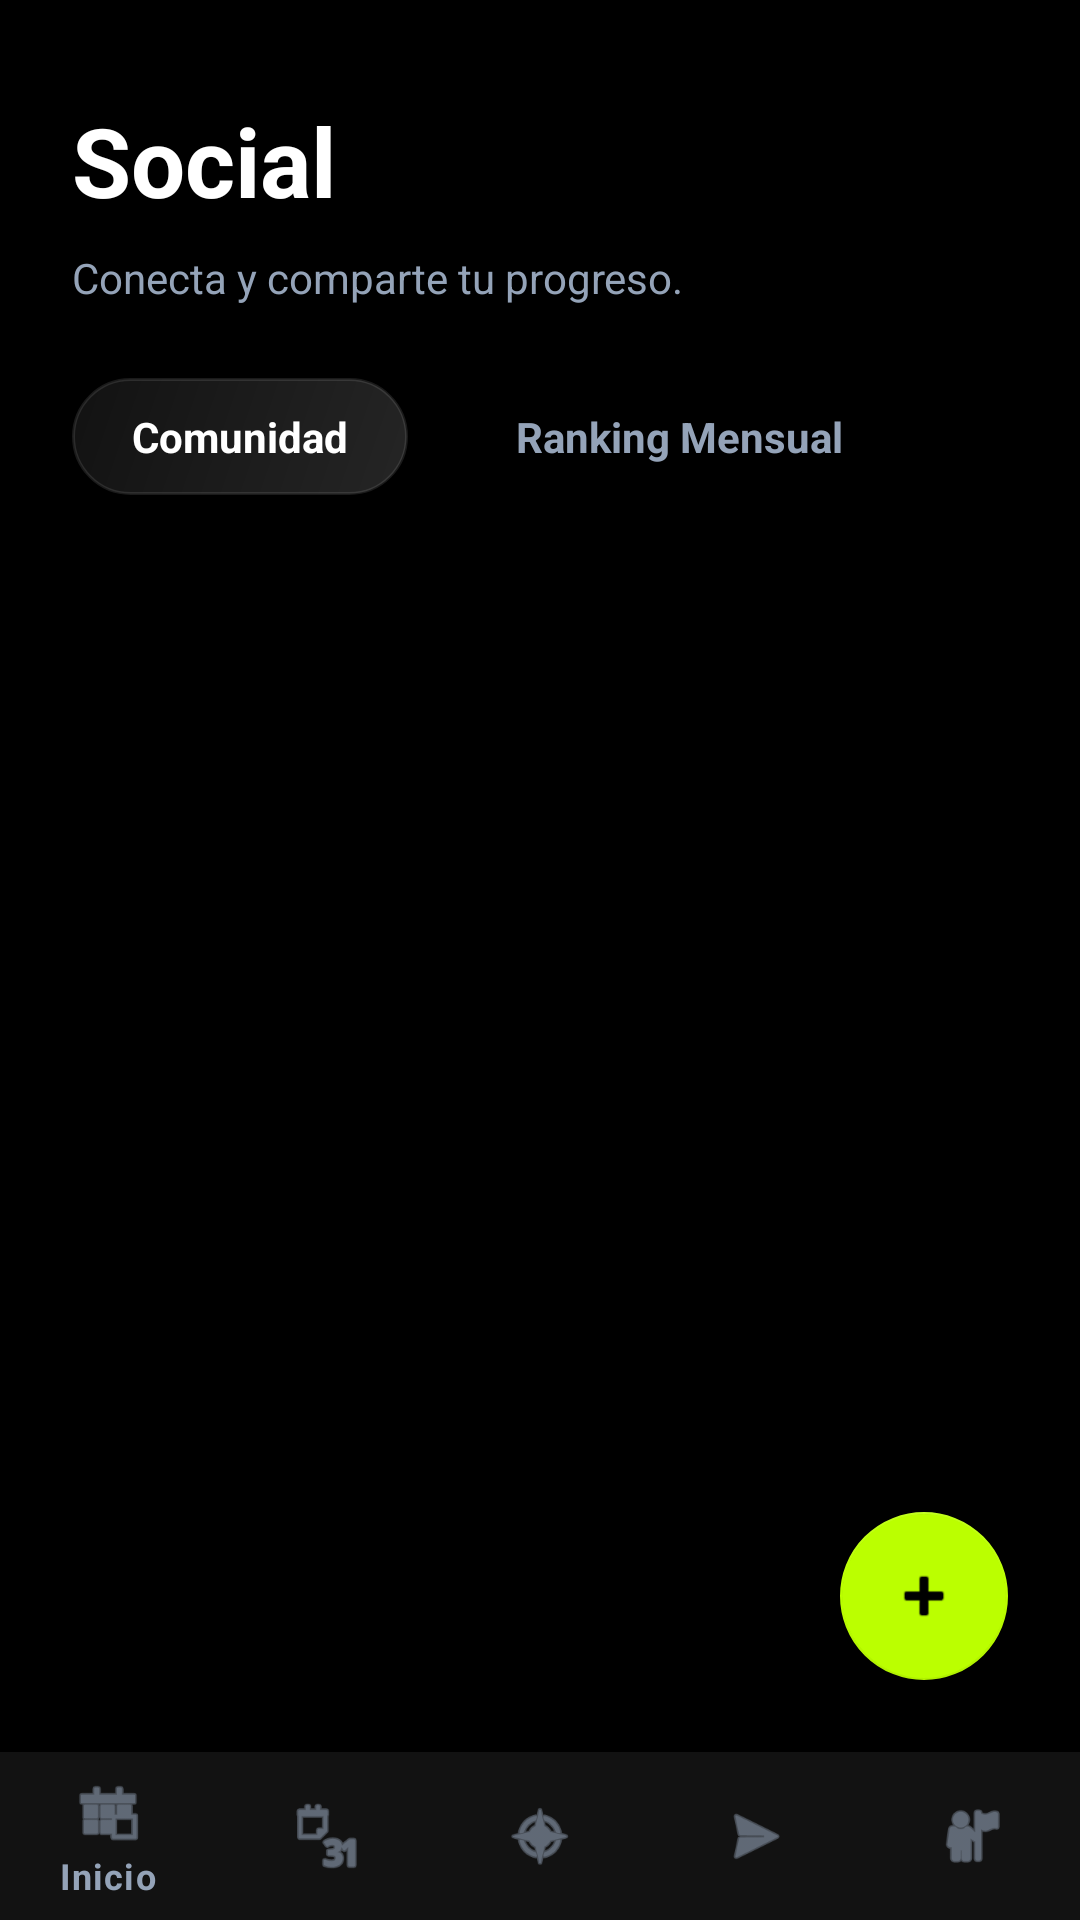

Icons on this 1080px×1920px Android screen, each with the point to tap as [x,y]:
add: [924,1596]
